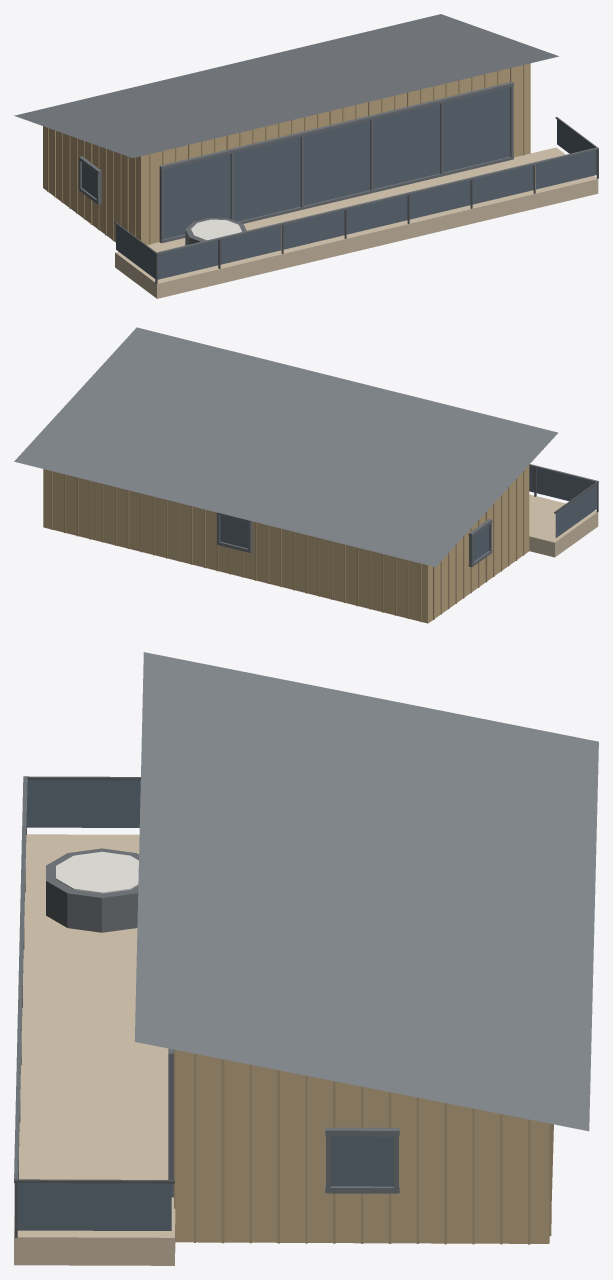
The picture shows the model from 3 angles, top to bottom: view 1: azimuth 30°, elevation 25°; view 2: azimuth 150°, elevation 25°; view 3: azimuth 270°, elevation 25°; orthographic projection. The views are drawn at different scales.
Visible parts, largest first — view 1: slate, door_wood, larch, slate_dk, window_glass_014, window_glass_013, window_glass_012, window_glass_011, window_glass_010, door_wood_p, window_glass_006, window_glass_003 (+11 smaller); view 2: slate, door_wood, door_wood_p, larch, slate_dk, window_glass_001, window_glass_008, window_glass_017, window_glass_015; view 3: slate, door_wood, larch, window_glass_009, door_wood_p, window_glass_008, slate_dk, band_dark, window_glass_016, string, pipe.
Part boxes in pixels (bbox=[...]): slate: bbox=[14, 14, 558, 157]; door_wood: bbox=[43, 63, 530, 244]; larch: bbox=[115, 147, 598, 298]; slate_dk: bbox=[79, 82, 597, 254]; window_glass_014: bbox=[443, 87, 510, 172]; window_glass_013: bbox=[373, 104, 440, 188]; window_glass_012: bbox=[304, 120, 370, 205]; window_glass_011: bbox=[234, 137, 300, 221]; window_glass_010: bbox=[164, 153, 230, 238]; door_wood_p: bbox=[47, 65, 524, 244]; window_glass_006: bbox=[472, 165, 533, 204]; window_glass_003: bbox=[283, 210, 344, 249]; slate: bbox=[14, 327, 557, 566]; door_wood: bbox=[43, 465, 529, 623]; door_wood_p: bbox=[51, 470, 524, 622]; larch: bbox=[529, 494, 598, 557]; slate_dk: bbox=[216, 464, 597, 567]; window_glass_001: bbox=[536, 468, 594, 500]; window_glass_008: bbox=[555, 484, 597, 537]; window_glass_017: bbox=[220, 515, 247, 548]; window_glass_015: bbox=[473, 525, 488, 561]; slate: bbox=[134, 652, 598, 1131]; door_wood: bbox=[175, 1050, 549, 1243]; larch: bbox=[14, 834, 175, 1265]; window_glass_009: bbox=[17, 1183, 171, 1230]; door_wood_p: bbox=[174, 1049, 553, 1244]; window_glass_008: bbox=[27, 780, 140, 827]; slate_dk: bbox=[14, 776, 399, 1197]; band_dark: bbox=[46, 848, 138, 932]; window_glass_016: bbox=[331, 1136, 393, 1186]; string: bbox=[56, 851, 138, 893]; pipe: bbox=[14, 776, 174, 1237].
Bounding box in the file's own units: 15.49 × 3.88 × 9.46.
